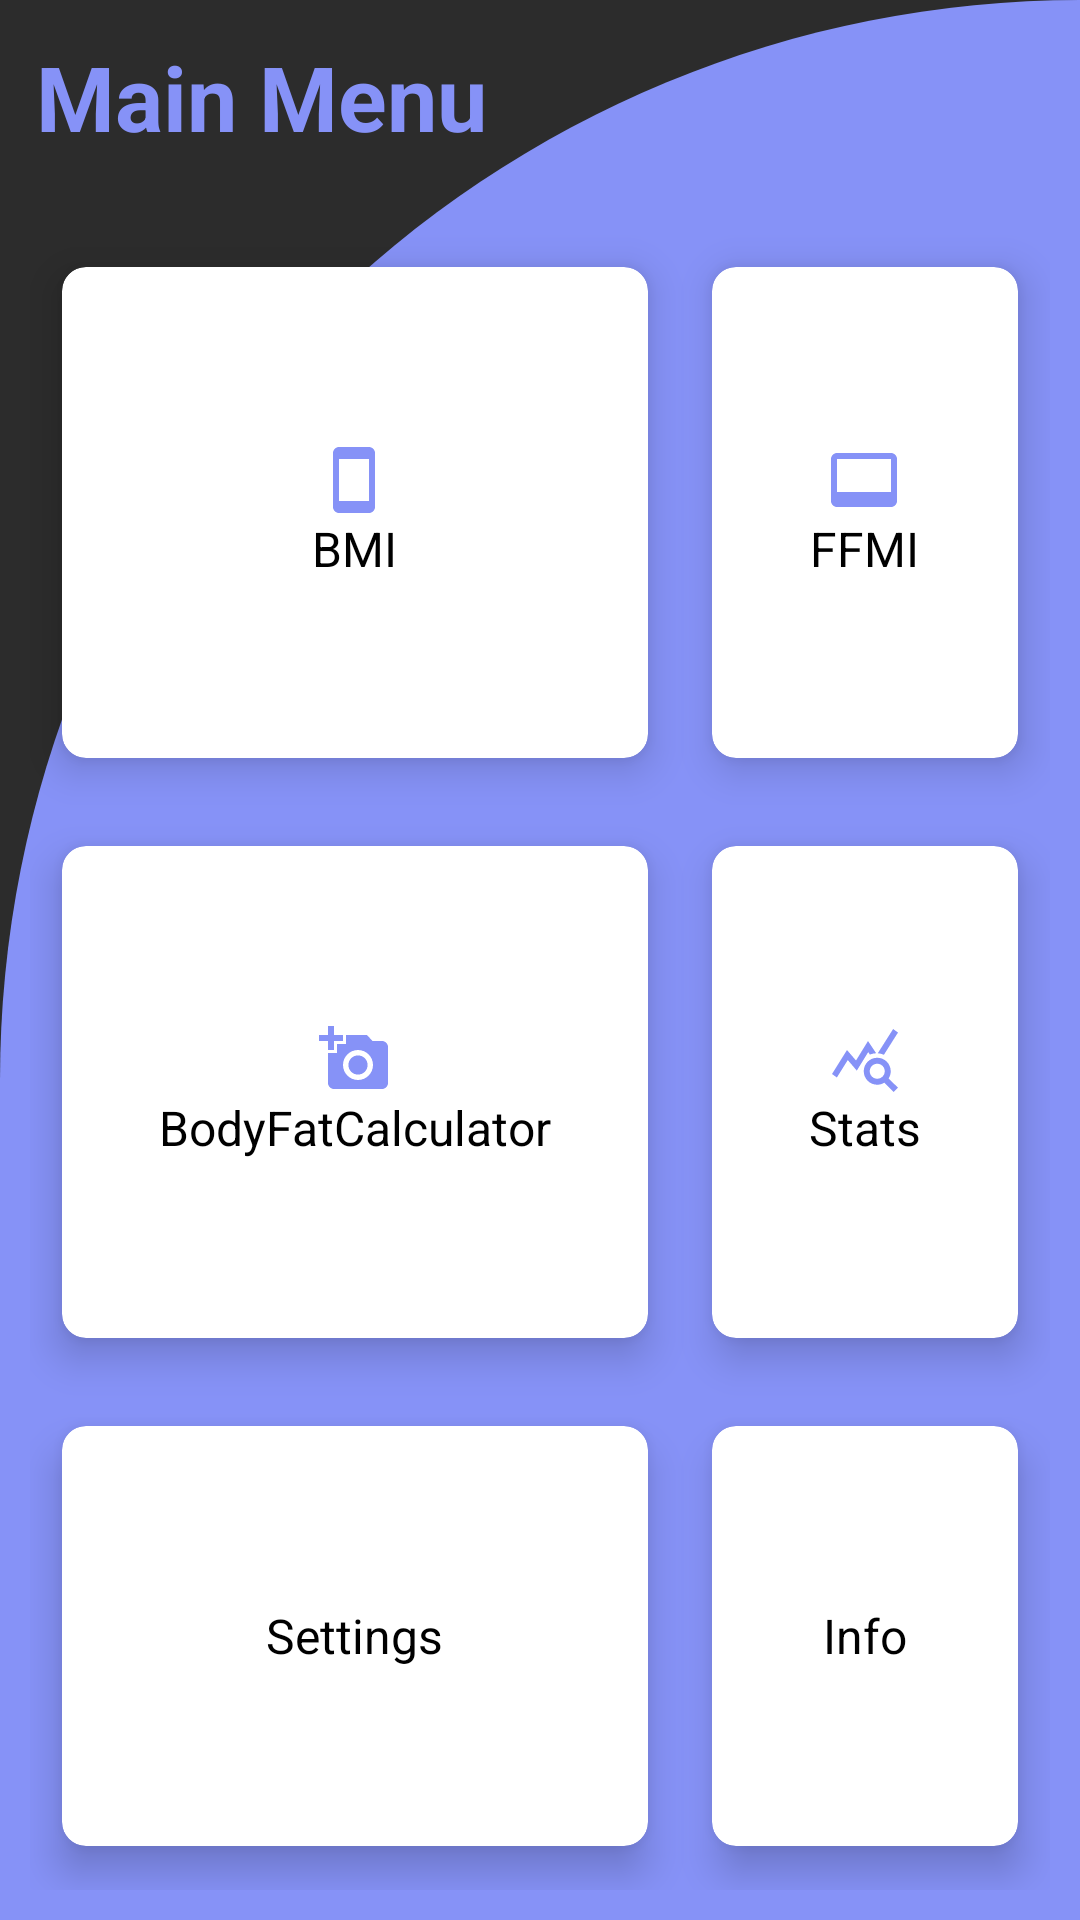

Icons on this 1080px x 1920px Android screen, each with its box as (x1, y1, x2, y2):
photo: (319, 1026, 388, 1089)
